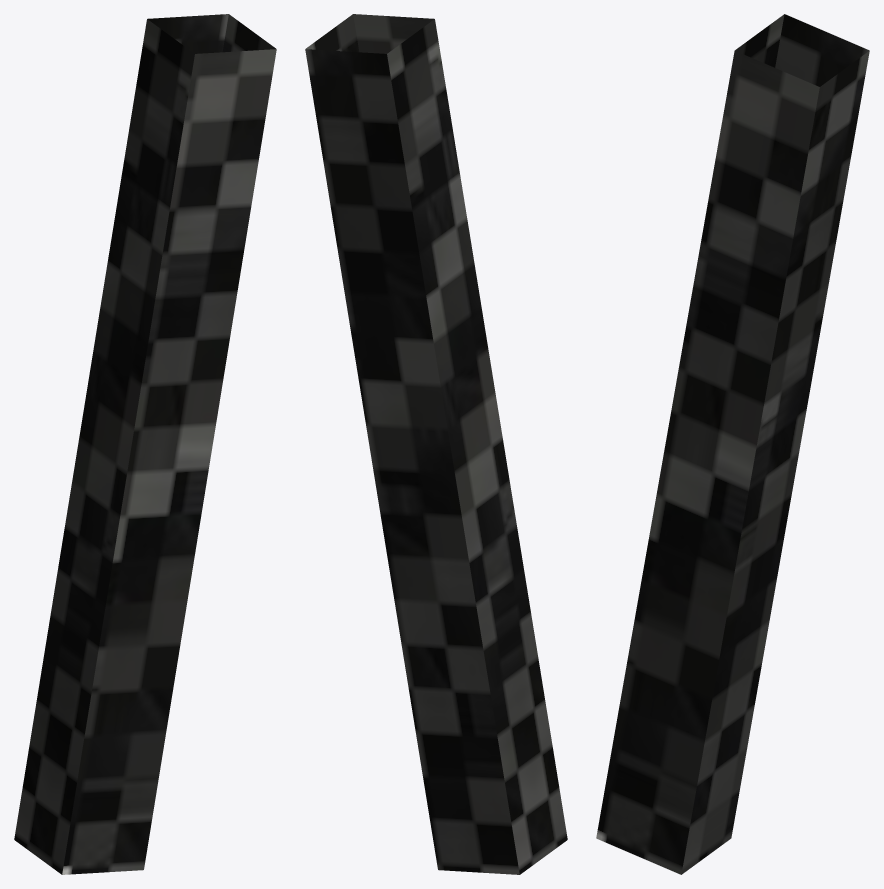
3 renders of one model, left to right at view 1: azimuth 30°, elevation 25°; view 2: azimuth 150°, elevation 25°; view 3: azimuth 330°, elevation 25°, orthographic. The views are drawn at different scales.
Visible parts, largest first — view 1: ladder_2_f35_ext_3_0; view 2: ladder_2_f35_ext_3_0; view 3: ladder_2_f35_ext_3_0.
Part boxes in pixels (x1,y1,x2,y2): ladder_2_f35_ext_3_0: (14,14,276,874); ladder_2_f35_ext_3_0: (305,14,567,874); ladder_2_f35_ext_3_0: (596,14,869,874).
Bounding box in the file's own units: 10.98 × 39.3 × 4.25.
1 material, 1 textured.
